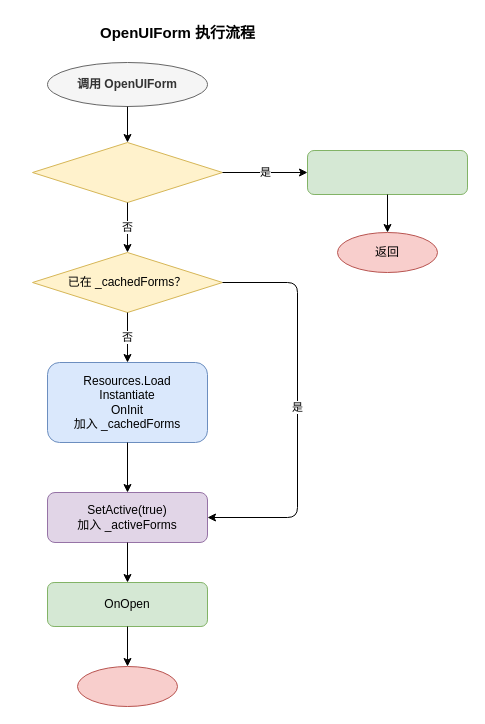
This 485x724 diagram has some shape labels left out. Each missing label, with the centre of its shape:
"OnOpen（刷新数据）" belongs at (387,172).
"已在 _activeForms？" belongs at (127,172).
"结束" belongs at (127,686).
